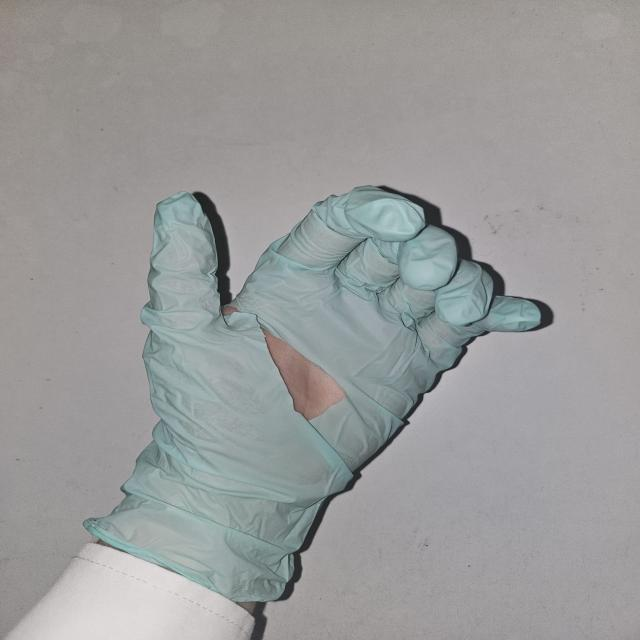gloves_damaged: (88, 183, 548, 604)
